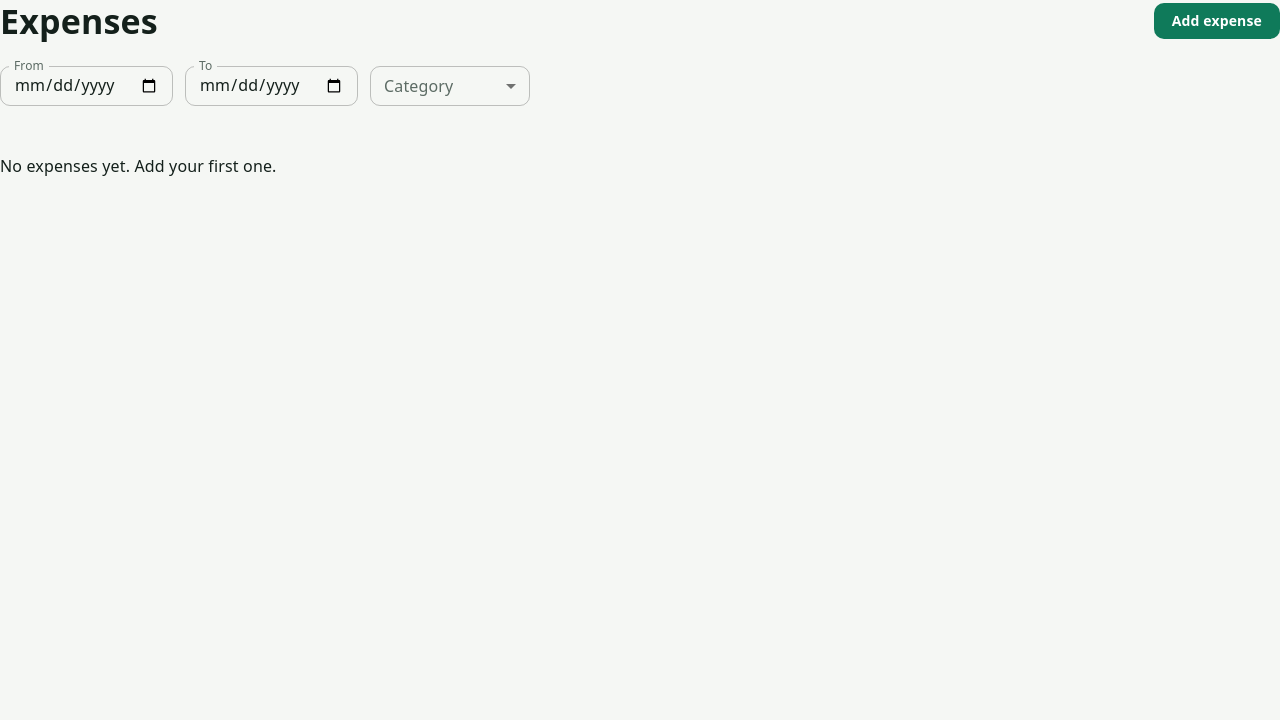
Test: ExpensesPage › validates the add-expense form
Click the button "Add expense": [1217, 21] box [1154,3,1279,39]
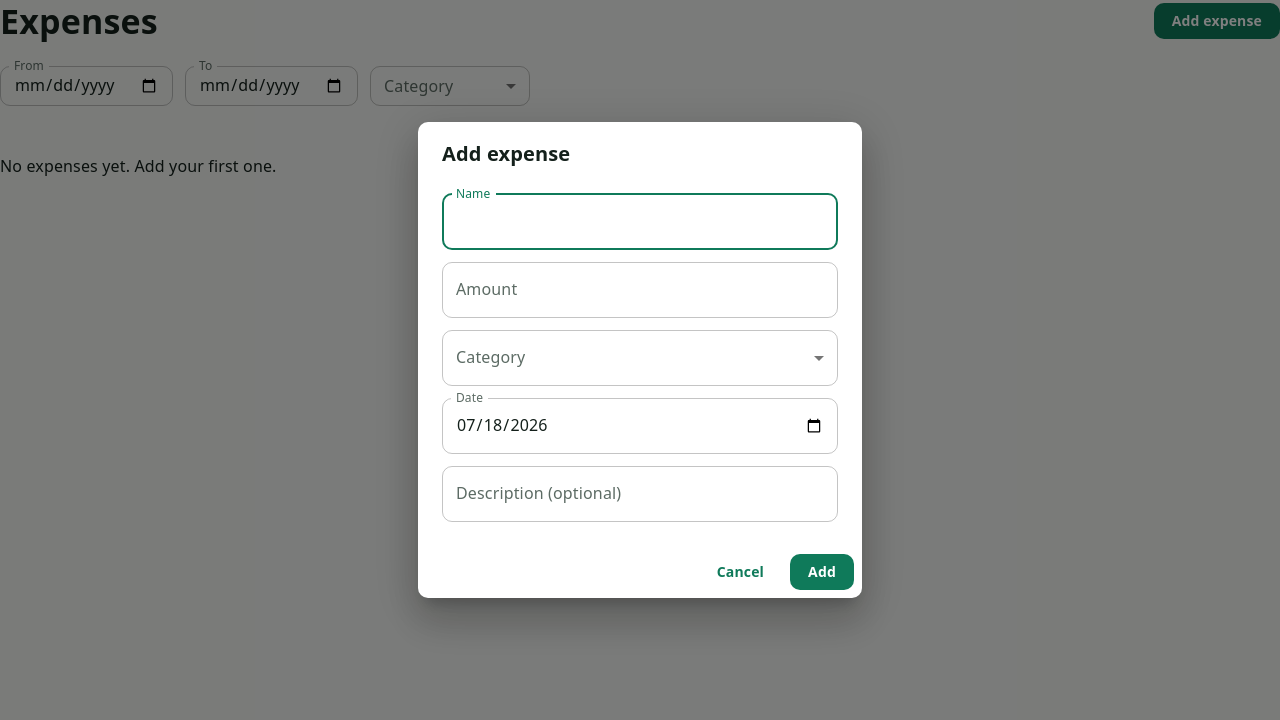
Click the button "Add": [822, 572] box [790,554,854,590]
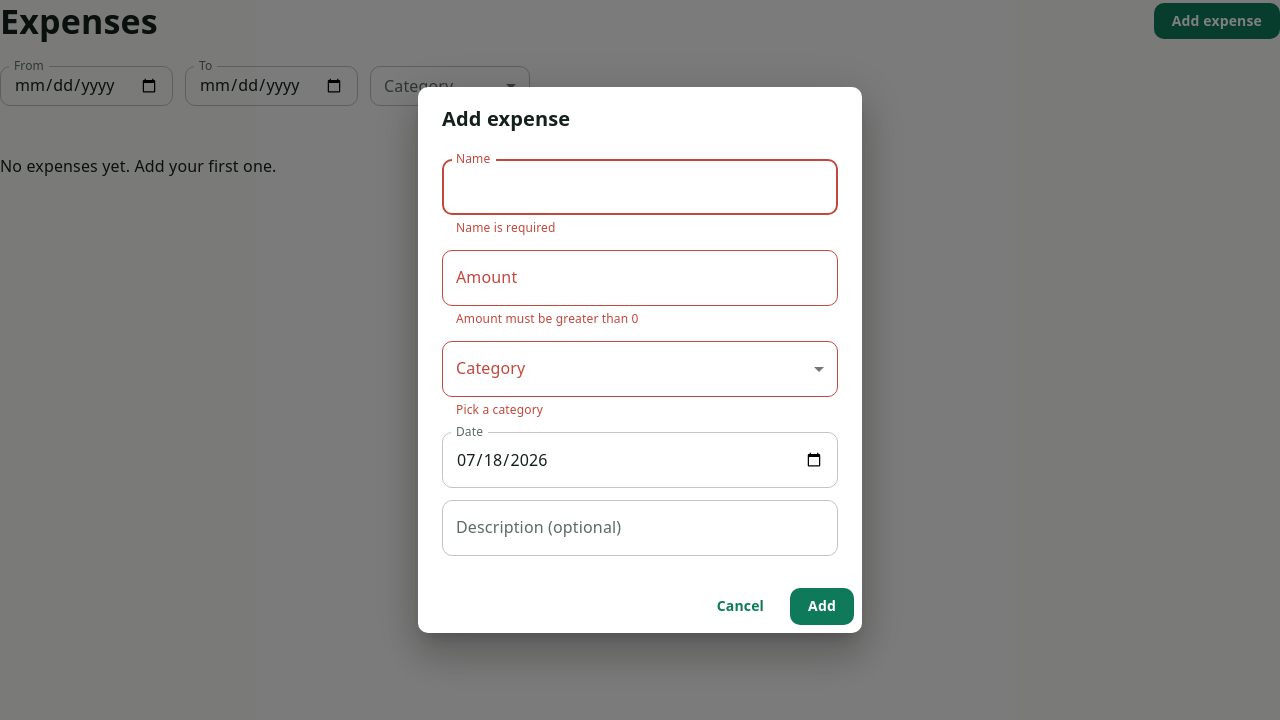
Now the text "Name is required" is shown, box [456,219,556,236]
Now the text "Amount must be greater than 0" is shown, box [456,310,638,327]
Now the text "Pick a category" is shown, box [456,401,543,418]
